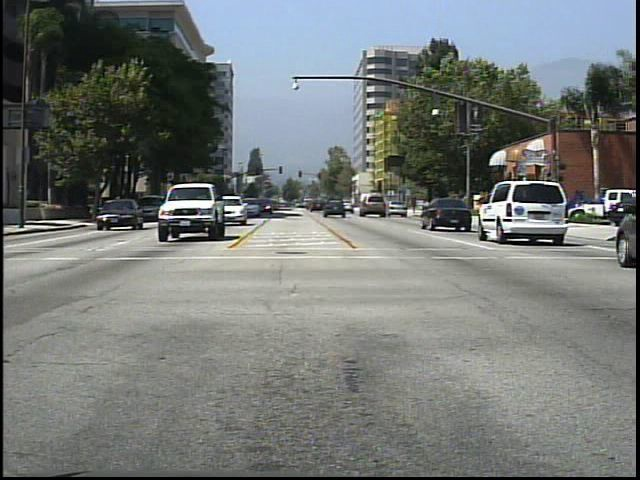person: (504, 191, 523, 230), (460, 191, 478, 226)
